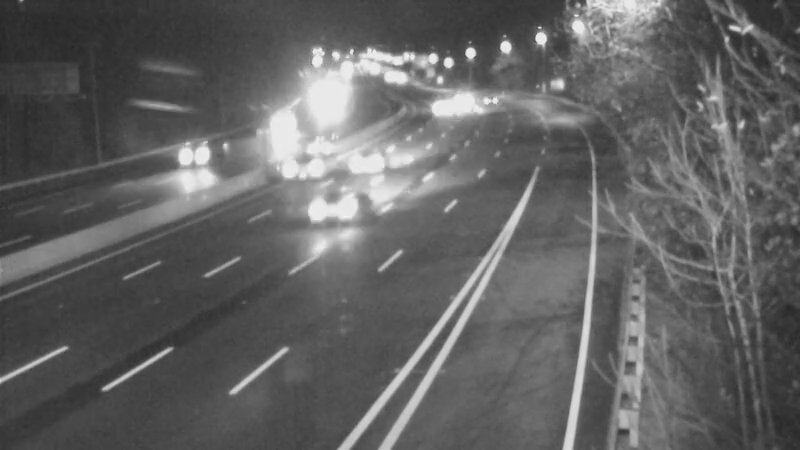vehicle: (333, 119, 413, 199), (263, 116, 343, 196), (291, 173, 371, 253), (161, 114, 241, 194), (438, 74, 488, 124), (466, 76, 516, 126), (415, 84, 465, 134), (441, 85, 491, 135), (257, 100, 307, 150)
